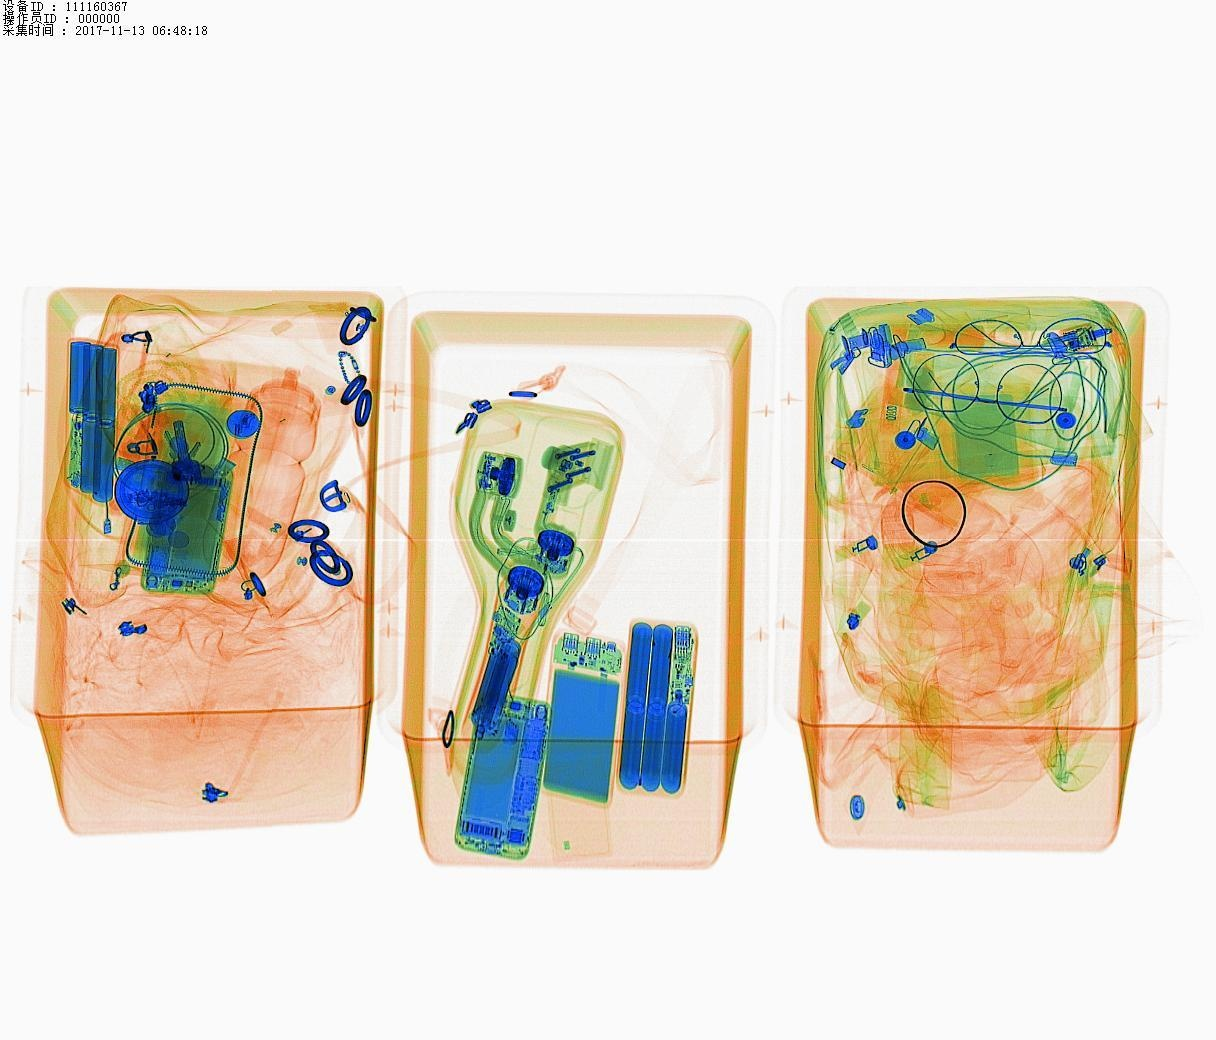core: (633, 628, 688, 793), (69, 332, 116, 506)
coreless: (559, 635, 616, 797)
